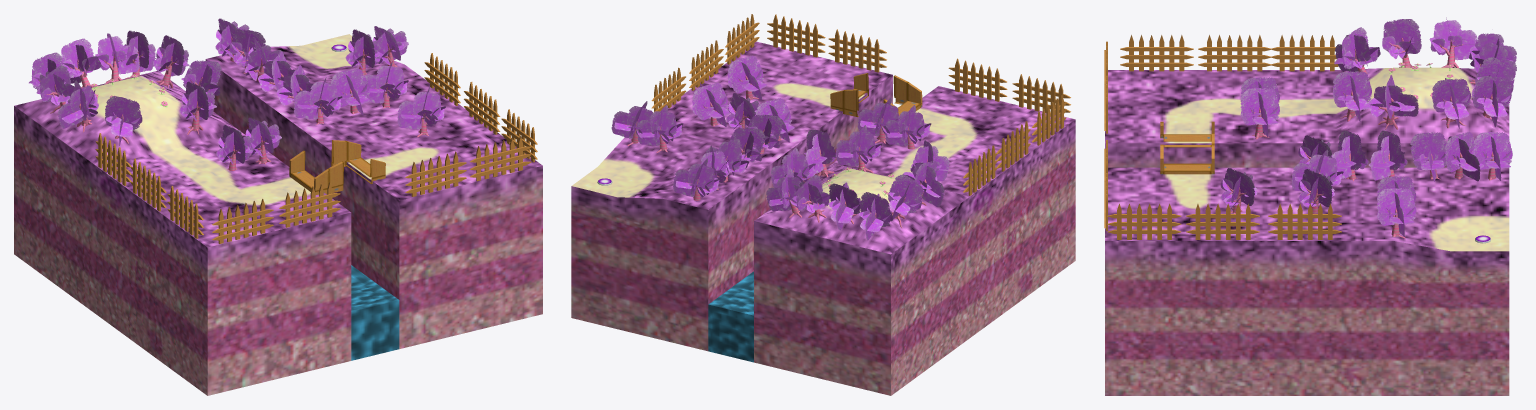
File: TutorialStage 1.fbx
3 views of the same model, side by side, from view 1: azimuth 30°, elevation 25°; view 2: azimuth 150°, elevation 25°; view 3: azimuth 270°, elevation 25° (orthographic). The views are drawn at different scales.
Visible parts, largest first — view 1: pCube1, pCube9, Tree23, Fence4, Fence6, Fence5, Fence7, Tree18, Tree8, Tree1, Tree9, Tree20 (+23 smaller); view 2: pCube1, pCube9, Fence6, Tree2, Fence7, Fence5, Tree11, Tree21, Tree13, Tree20, Tree23, Tree7 (+23 smaller); view 3: pCube1, Fence3, Fence2, Fence10, Fence9, Fence8, Fence1, Tree22, pCube9, Tree12, Tree2, Tree7 (+19 smaller).
Boxes of the visible parts, x1=… form: pCube1: x1=14, y1=34, x2=542, y2=395; pCube9: x1=289, y1=140, x2=385, y2=194; Tree23: x1=397, y1=86, x2=445, y2=137; Fence4: x1=212, y1=199, x2=273, y2=243; Fence6: x1=405, y1=151, x2=466, y2=196; Fence5: x1=279, y1=182, x2=340, y2=227; Fence7: x1=470, y1=136, x2=531, y2=181; Tree18: x1=294, y1=77, x2=342, y2=124; Tree8: x1=58, y1=80, x2=98, y2=132; Tree1: x1=105, y1=96, x2=142, y2=145; Tree9: x1=61, y1=38, x2=101, y2=87; Tree20: x1=365, y1=61, x2=408, y2=108; pCube1: x1=571, y1=41, x2=1075, y2=395; pCube9: x1=830, y1=73, x2=922, y2=116; Fence6: x1=828, y1=29, x2=886, y2=72; Tree2: x1=836, y1=125, x2=881, y2=173; Fence7: x1=767, y1=14, x2=825, y2=57; Fence5: x1=948, y1=58, x2=1007, y2=101; Tree11: x1=637, y1=105, x2=683, y2=152; Tree21: x1=885, y1=105, x2=931, y2=149; Tree13: x1=673, y1=158, x2=720, y2=200; Tree20: x1=692, y1=82, x2=730, y2=126; Tree23: x1=728, y1=55, x2=766, y2=100; Tree7: x1=888, y1=174, x2=923, y2=228; pCube1: x1=1105, y1=67, x2=1509, y2=395; Fence3: x1=1120, y1=35, x2=1193, y2=71; Fence2: x1=1198, y1=35, x2=1271, y2=71; Fence10: x1=1268, y1=203, x2=1341, y2=239; Fence9: x1=1186, y1=203, x2=1259, y2=239; Fence8: x1=1107, y1=203, x2=1181, y2=239; Fence1: x1=1271, y1=35, x2=1338, y2=71; Tree22: x1=1240, y1=88, x2=1279, y2=139; pCube9: x1=1160, y1=121, x2=1214, y2=174; Tree12: x1=1377, y1=188, x2=1416, y2=238; Tree2: x1=1333, y1=71, x2=1371, y2=121; Tree7: x1=1429, y1=17, x2=1477, y2=67.
Size of the model in its own units: 170 by 96.87 by 166.
